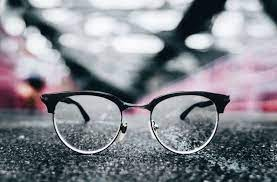g.y: (47, 71, 130, 154)
